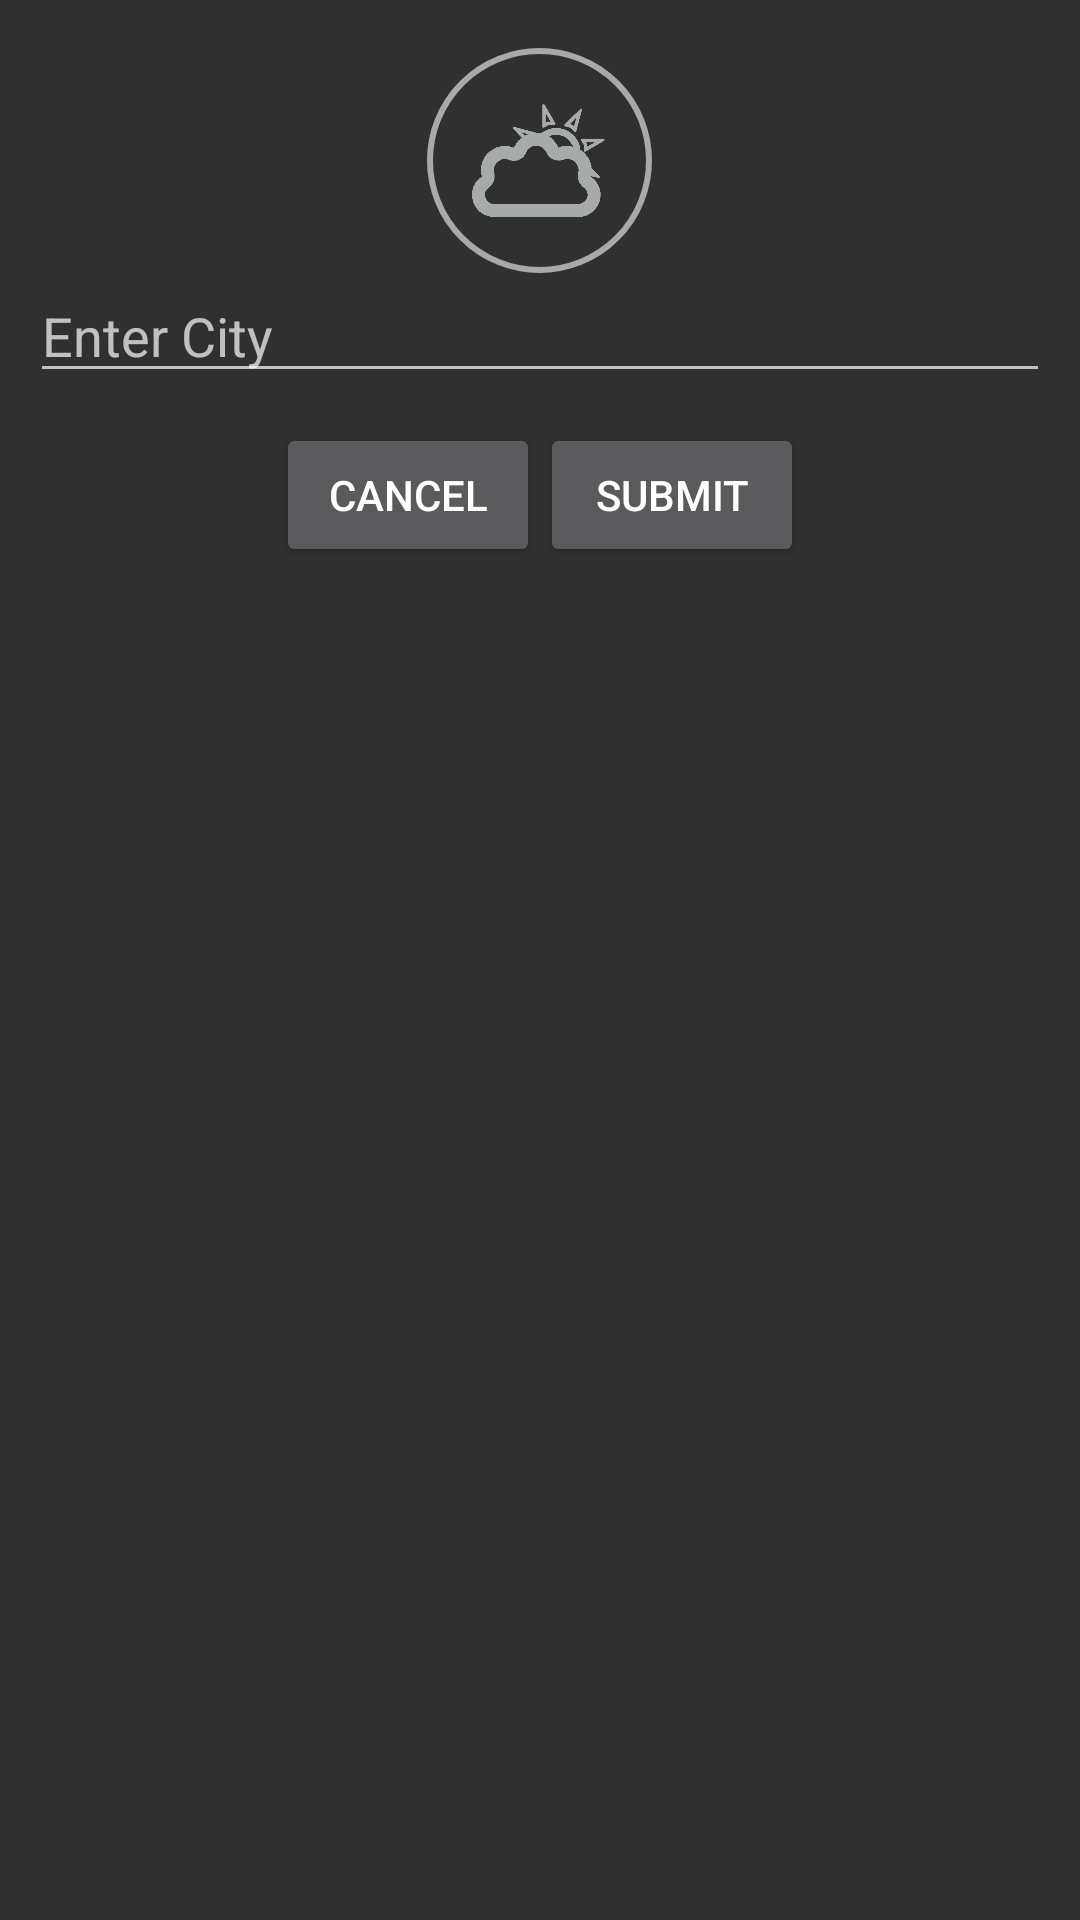

Named icons in this screenshot (1080×1920) and their centers, (x,y):
sunny and cloudy alert: (539,160)
